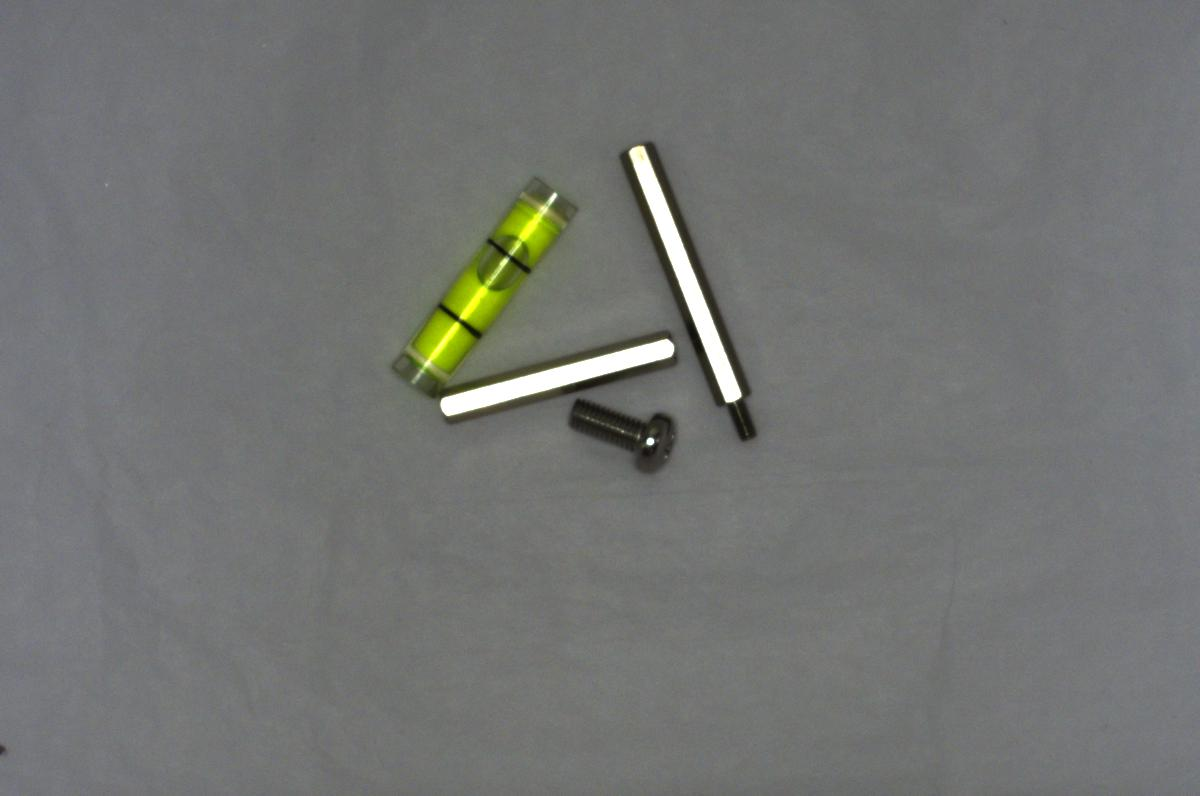Double hexagonal column: (431, 336, 678, 425)
Hexagonal steel column: (615, 134, 762, 454)
Horizontal bubble: (382, 172, 582, 402)
Round head screw: (560, 393, 685, 474)
